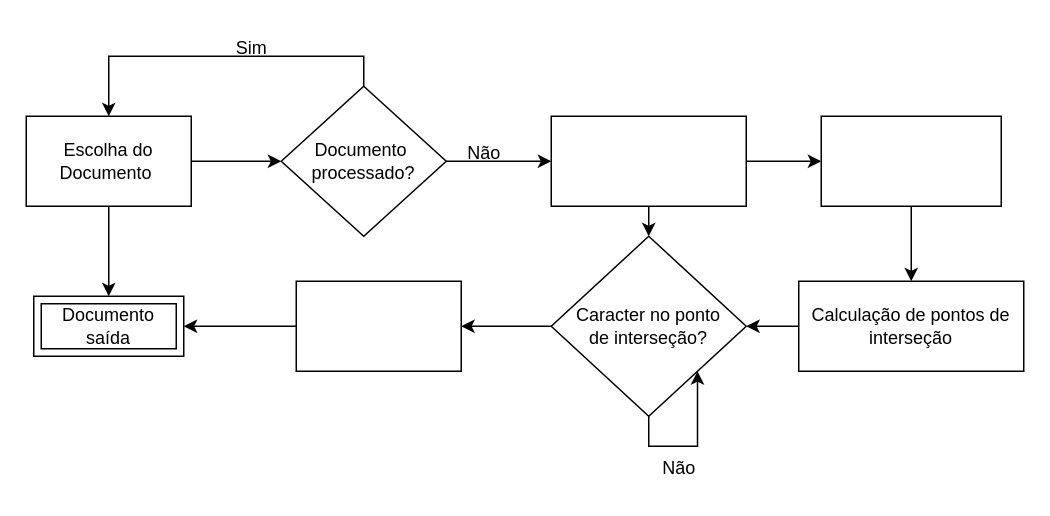
Some shapes in this 1050 by 516 pixel diagram are drawn without their labels. Each missing label, with the centre of its shape:
"Criação dos pontos para traçamento de retas" goes at (910,160).
"Gerar e inserir código de barras" goes at (378,325).
"Obtenção de caracteres e posições" goes at (648,160).
